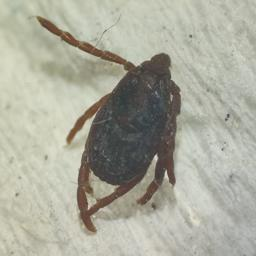Rhipicephalus sanguineus: (35, 16, 182, 233)
